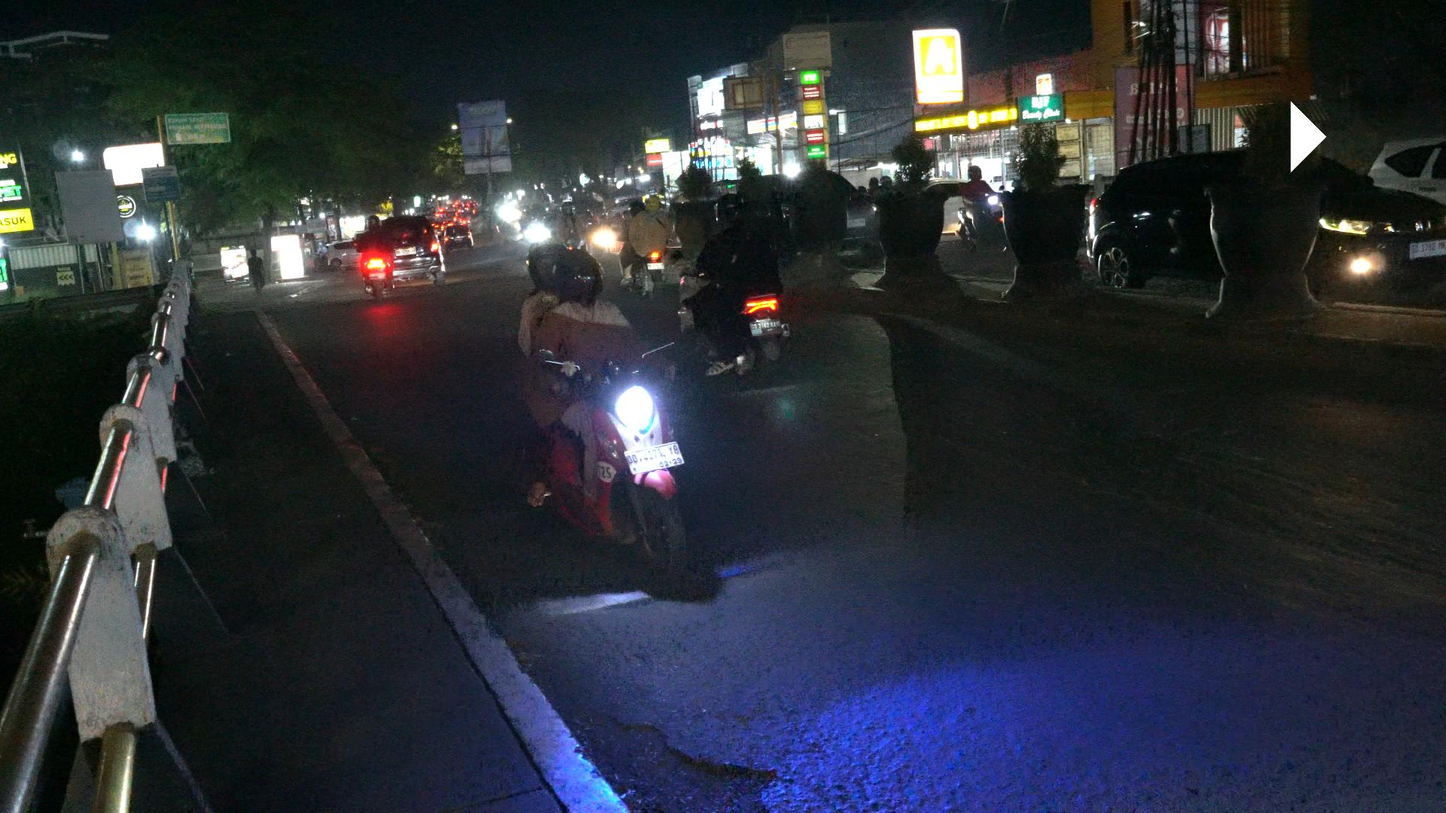number-plate: (621, 438, 687, 473)
